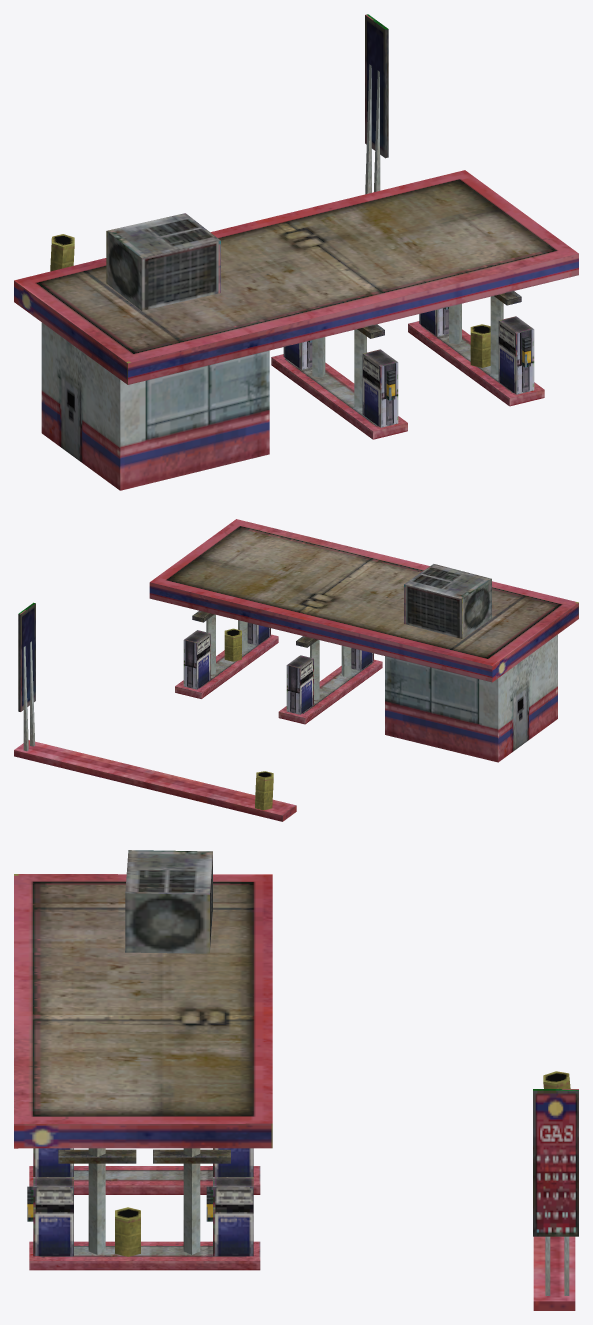
Rendered from USA - Base Building - Gas Station - CMAmGasSt.glb.
3 views of the same model, one above another, from view 1: azimuth 30°, elevation 25°; view 2: azimuth 150°, elevation 25°; view 3: azimuth 270°, elevation 25° (orthographic). The views are drawn at different scales.
Parts seen in each view (by area): view 1: CMAMGASST; view 2: CMAMGASST; view 3: CMAMGASST.
Boxes of the visible parts, <box> form: CMAMGASST: <box>14,14,578,490</box>; CMAMGASST: <box>14,519,578,821</box>; CMAMGASST: <box>14,850,578,1310</box>.
Bounding box in the file's own units: 101 × 38.07 × 88.02.
Materials: 1 (1 with a texture image).
